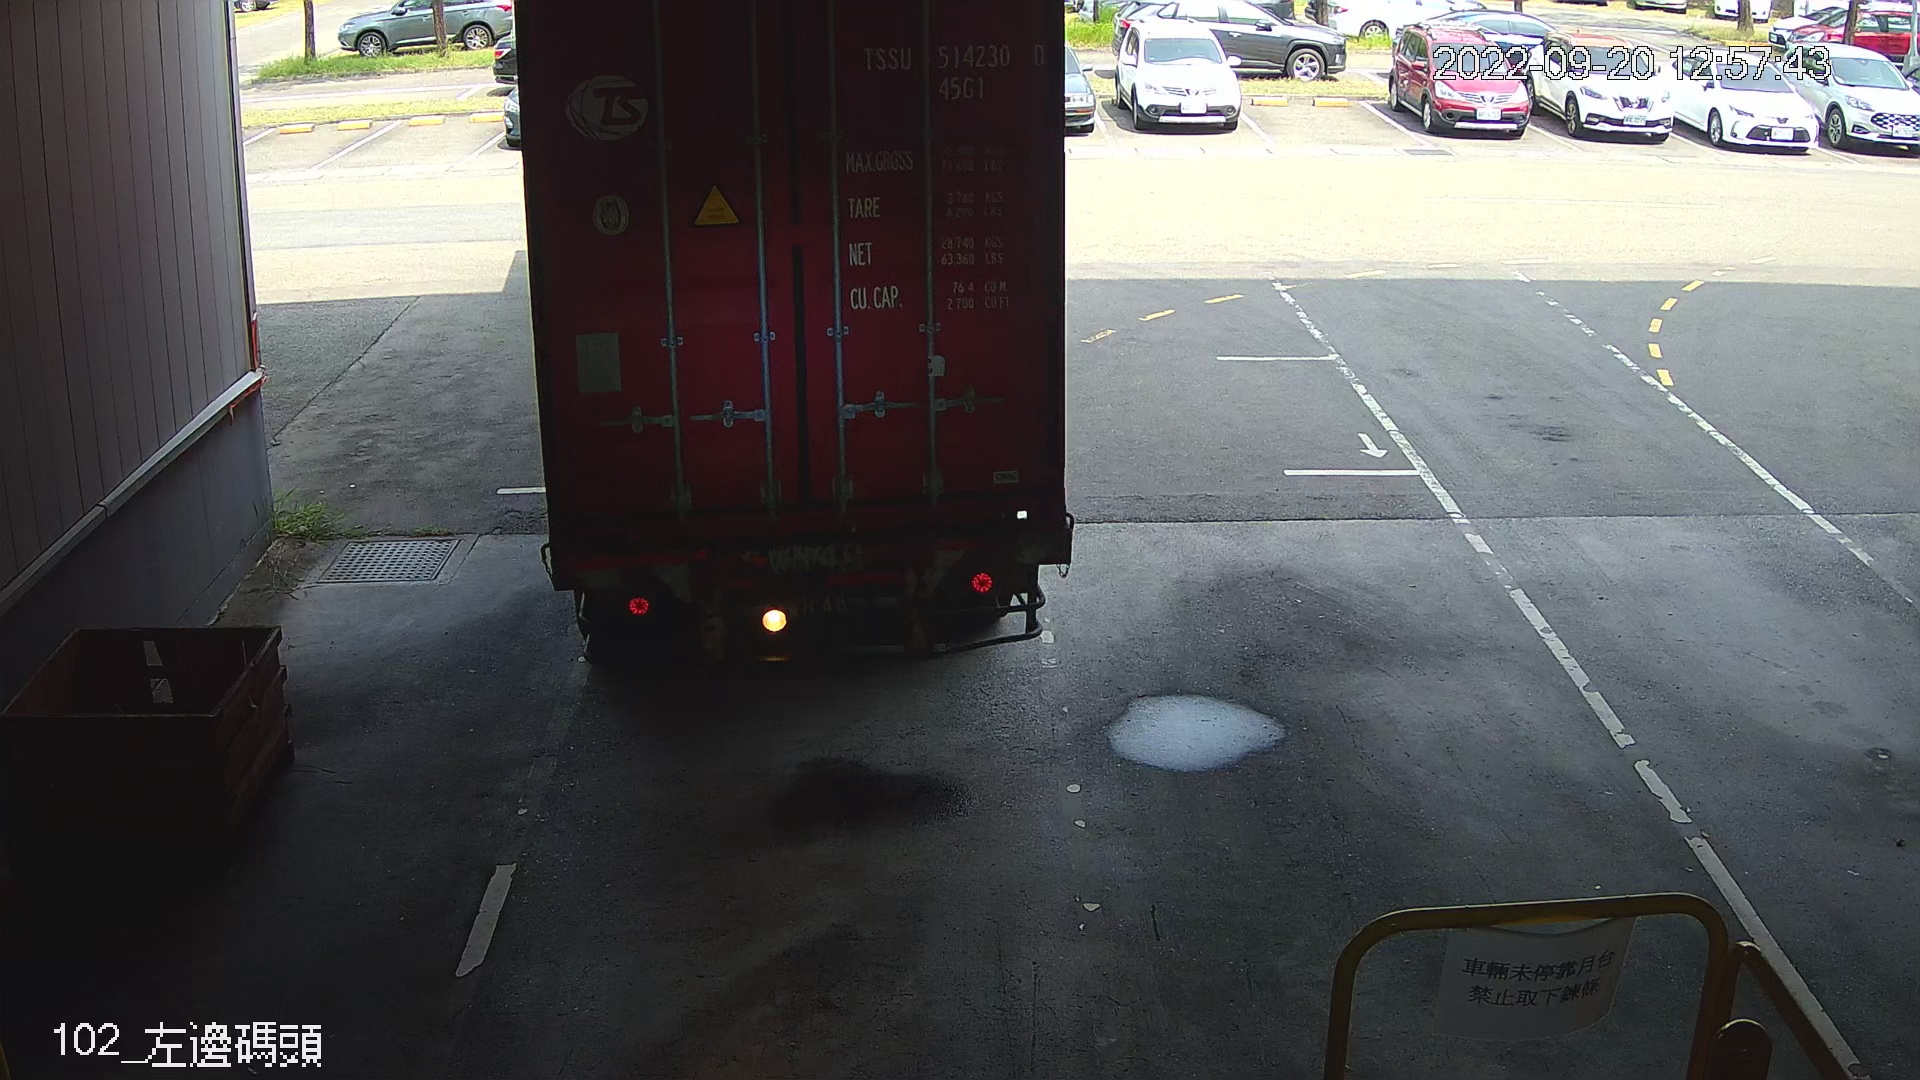container: (848, 30, 1051, 109)
